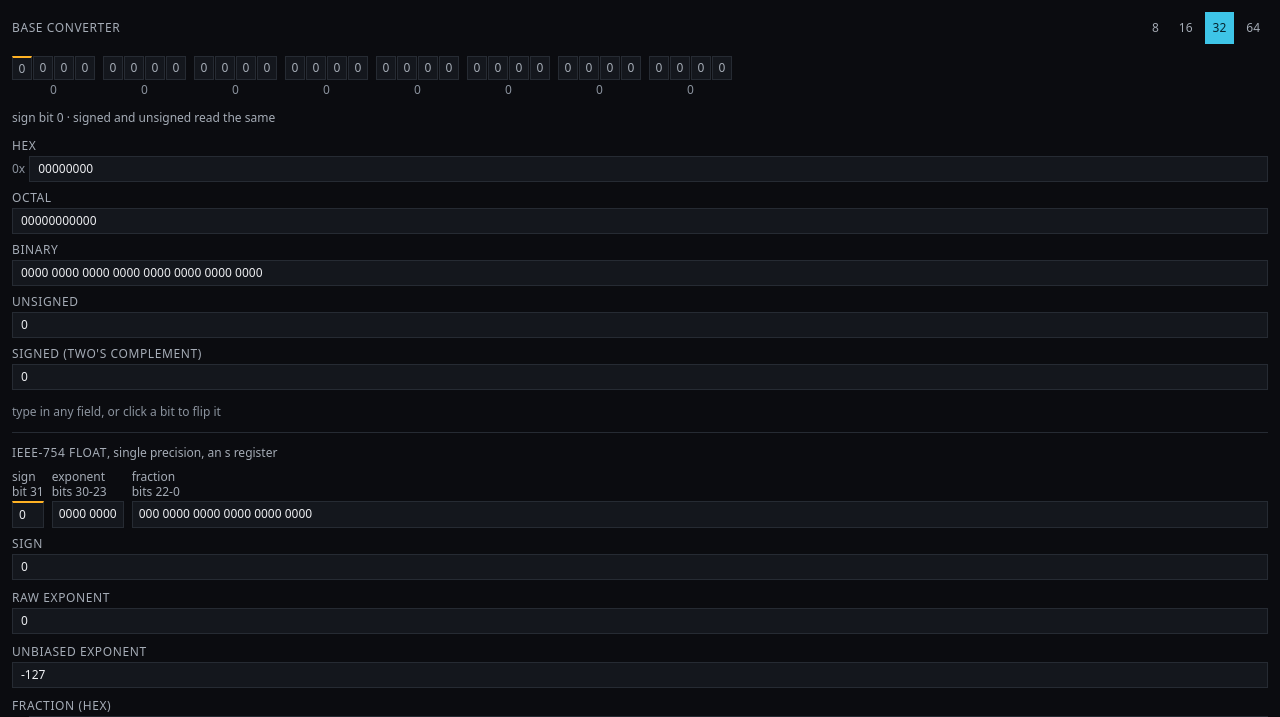
Scenario: BaseConverter sync › typing a signed value lands the two's complement pattern
This screenshot has width=1280, height=717.
Click the button named "8 bits". click: (1155, 28)
box: top-left (1144, 12), bottom-right (1167, 44)
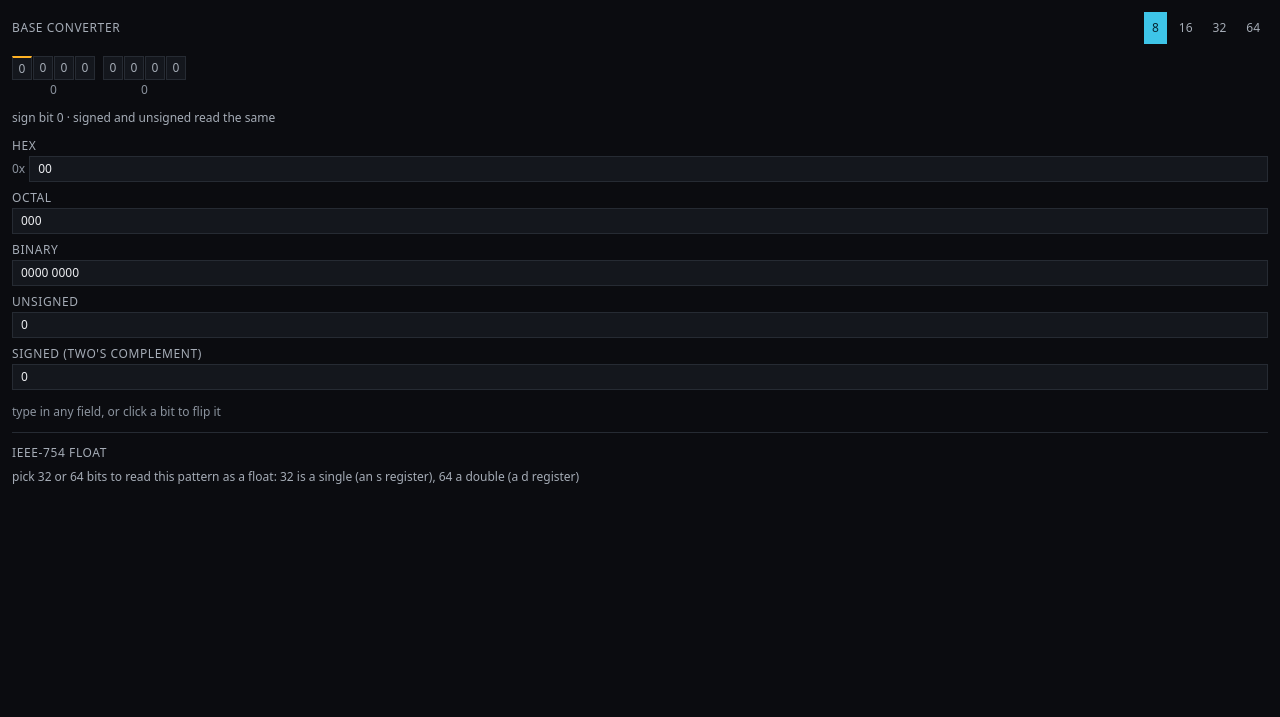
Replace the text in the field labelled "signed (two's complement)" with "-128". click: (640, 377)
box: top-left (12, 364), bottom-right (1268, 390)
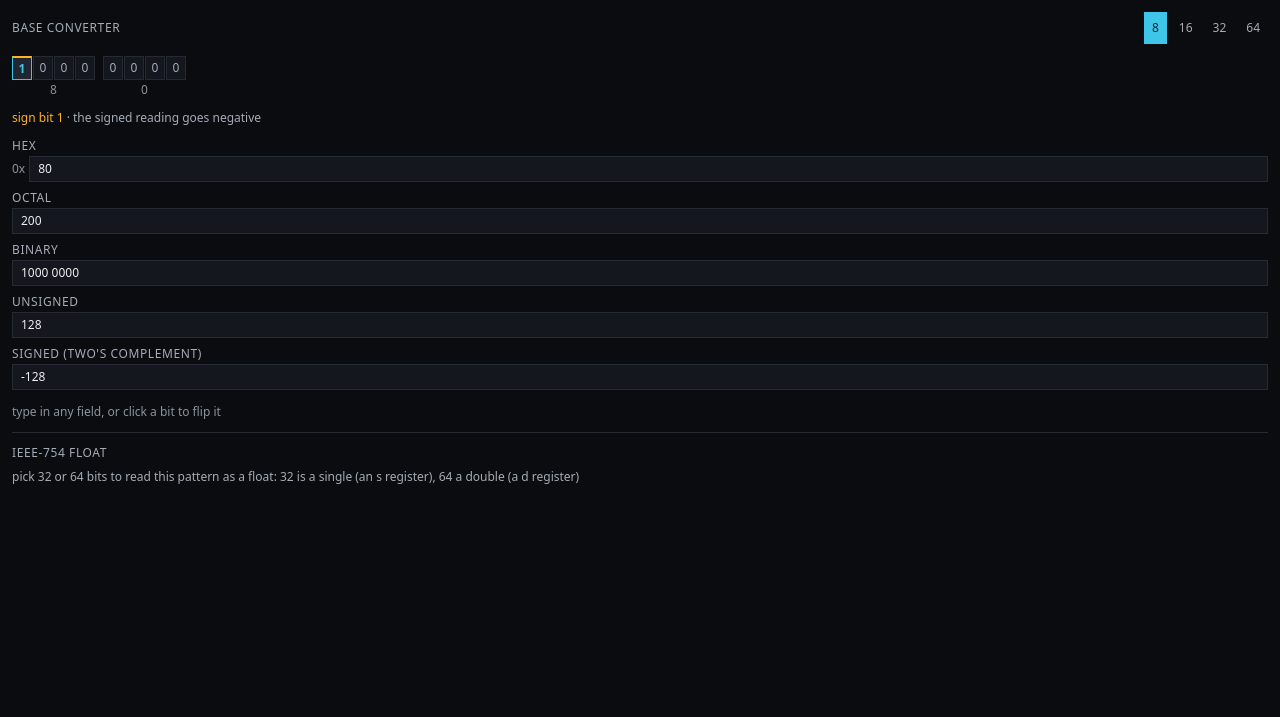
Expected: the field labelled "hex" holds "80", top-left (29, 156), bottom-right (1268, 182)
Expected: the field labelled "binary" holds "1000 0000", top-left (12, 260), bottom-right (1268, 286)
Expected: the field labelled "unsigned" holds "128", top-left (12, 312), bottom-right (1268, 338)
